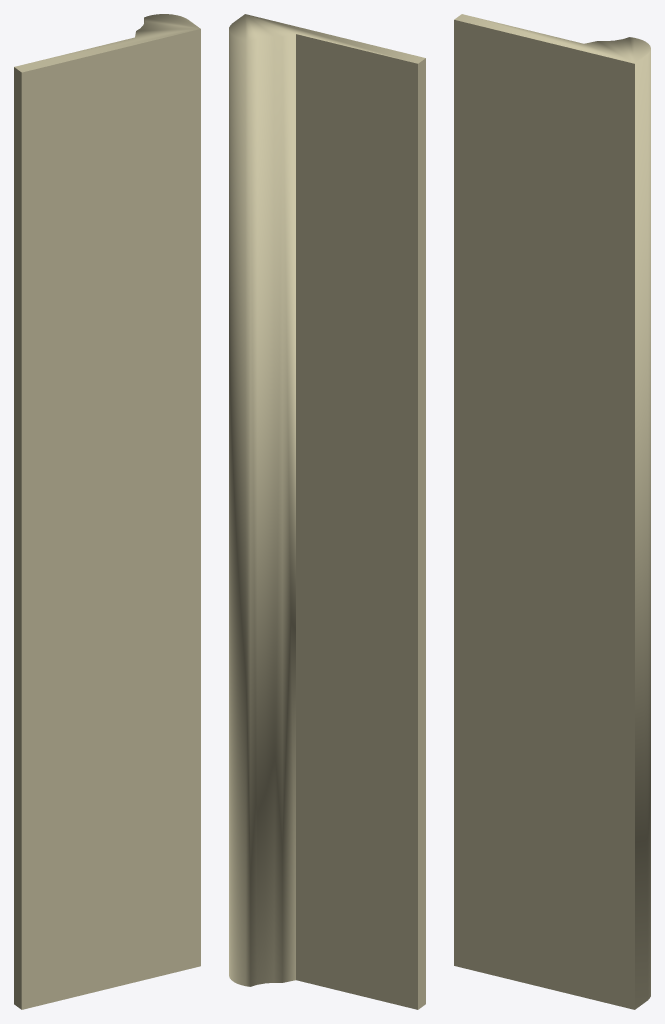
File: comet.glb
The picture shows the model from 3 angles, left to right: view 1: azimuth 30°, elevation 25°; view 2: azimuth 150°, elevation 25°; view 3: azimuth 330°, elevation 25°; orthographic projection.
Visible parts, largest first — view 1: Geom3D; view 2: Geom3D; view 3: Geom3D.
Part boxes in pixels (box(x1,y1,x2,y2)): Geom3D: box(14, 14, 200, 1009); Geom3D: box(229, 14, 425, 1009); Geom3D: box(454, 14, 650, 1009).
Size of the model in its own units: 0.04 by 0.2 by 0.0102.
